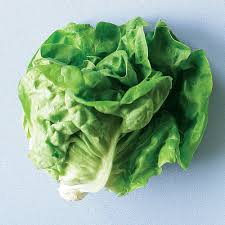lettuce: (23, 20, 210, 193)
